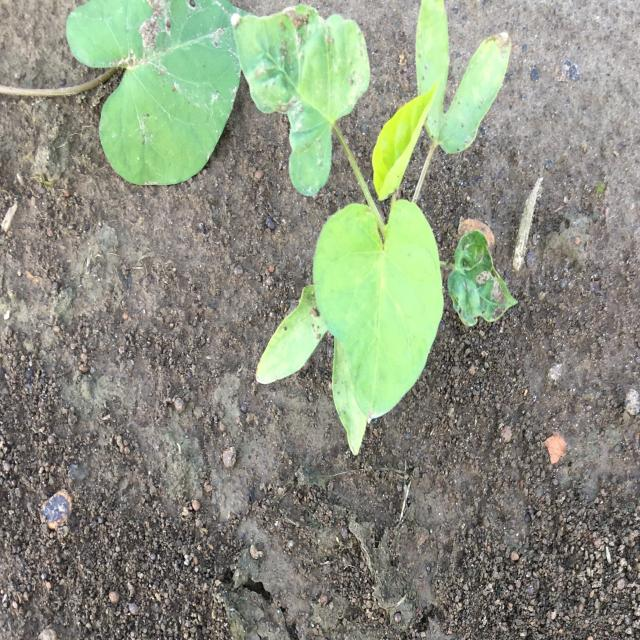MorningGlory: (232, 0, 519, 455)
